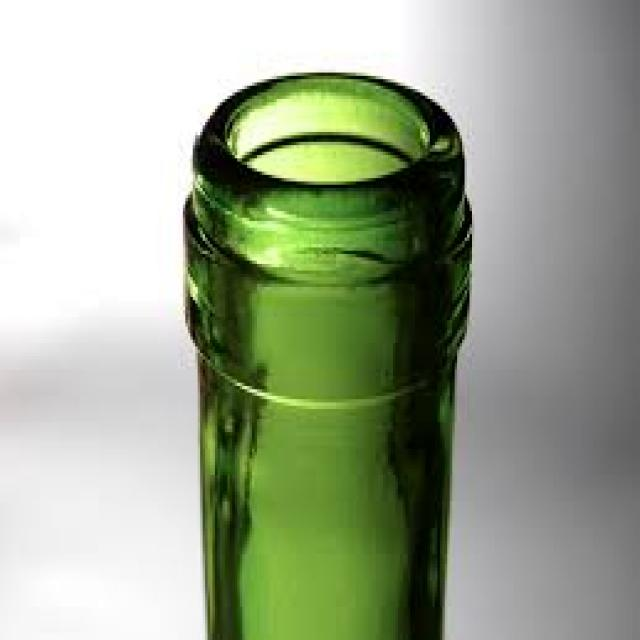Glass: (180, 66, 478, 640)
